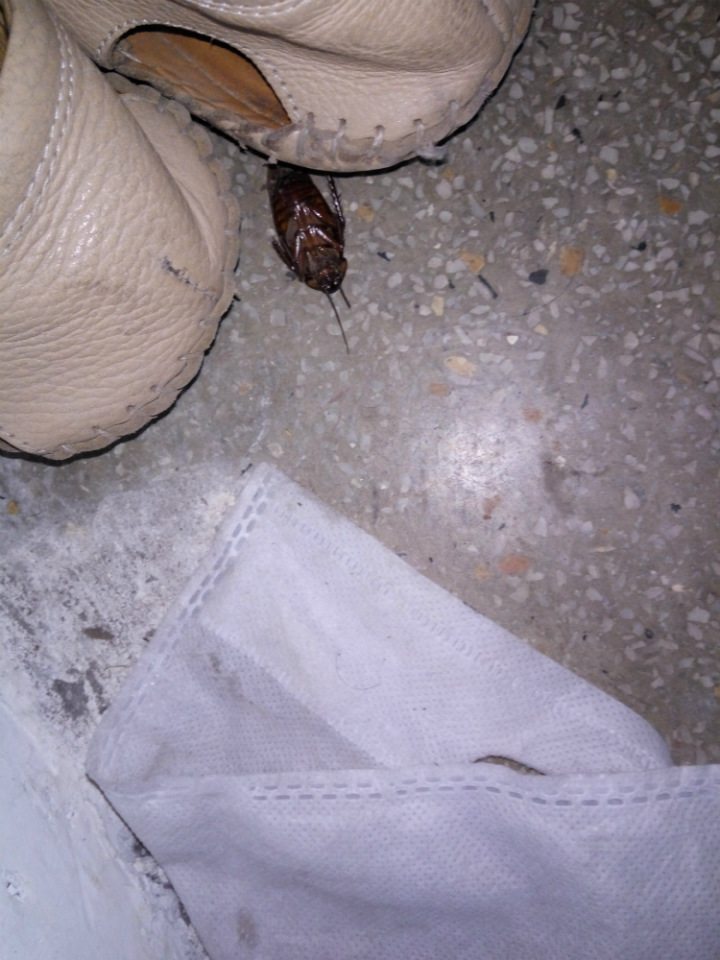cockroach: (200, 130, 484, 381)
